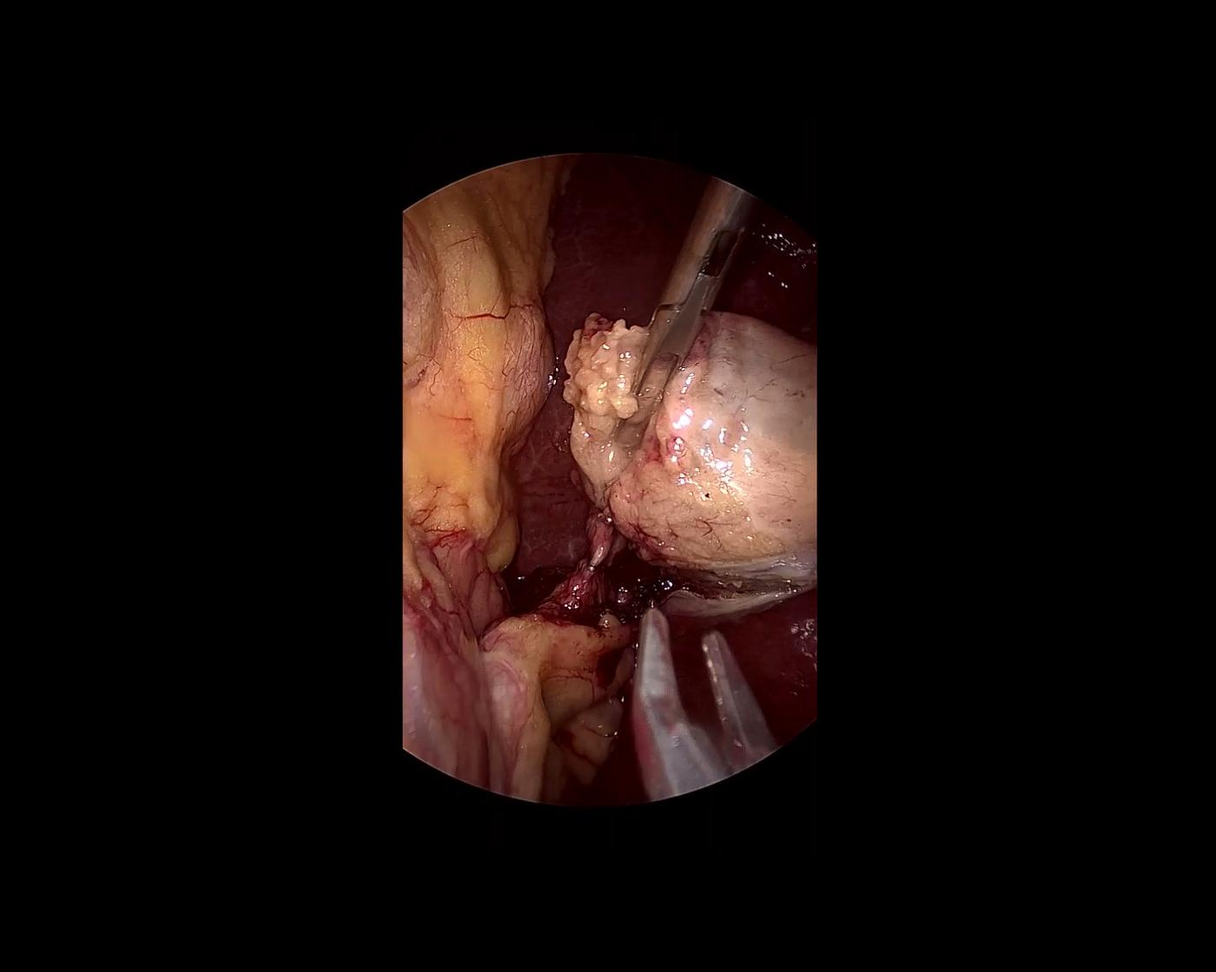Forceps: (586, 176, 758, 461)
Gallbladder: (560, 309, 815, 591)
Liver: (491, 151, 839, 618), (550, 577, 850, 798)
